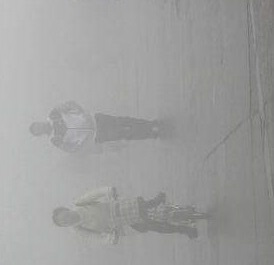person: (52, 186, 199, 244), (29, 101, 167, 155)
